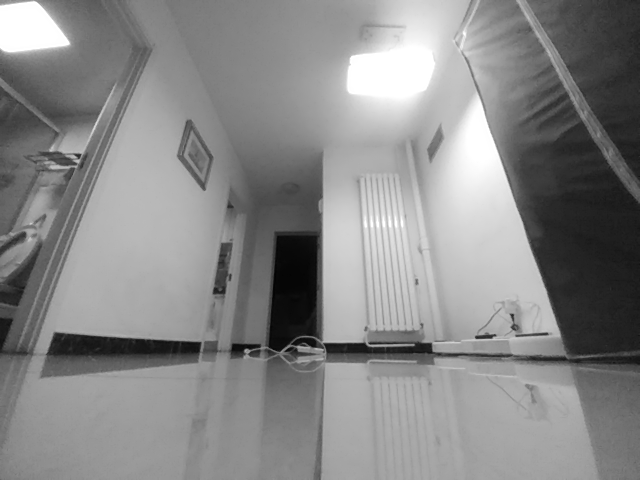power strip: (297, 342, 326, 357)
wire: (242, 337, 296, 358)
